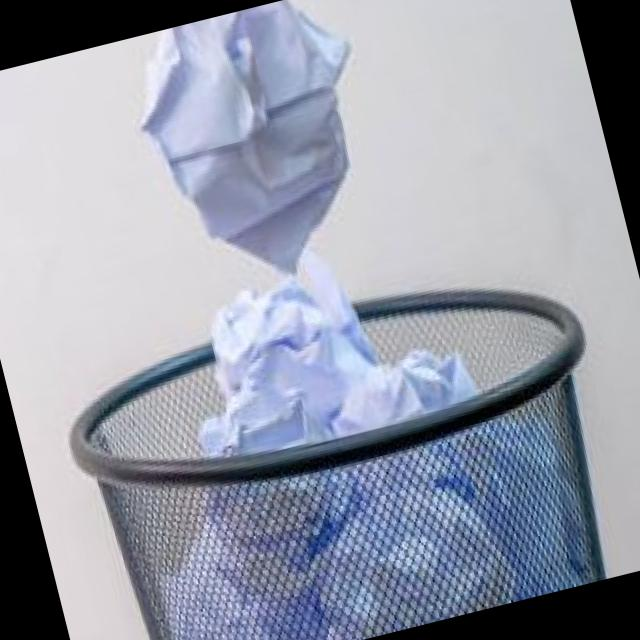electronic: (117, 0, 401, 300), (158, 218, 480, 472)
